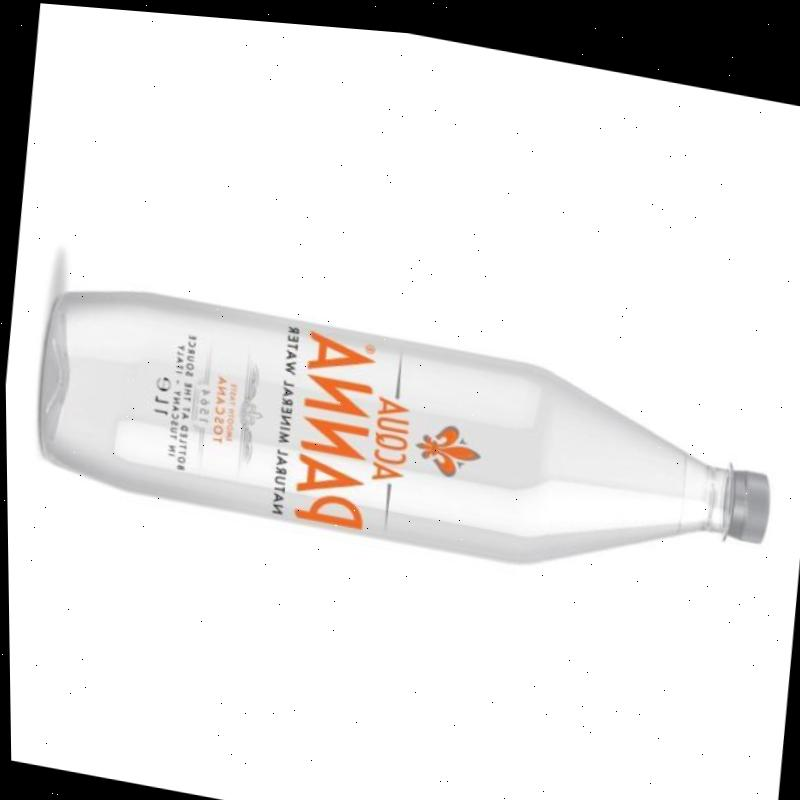botella: (23, 270, 781, 599)
